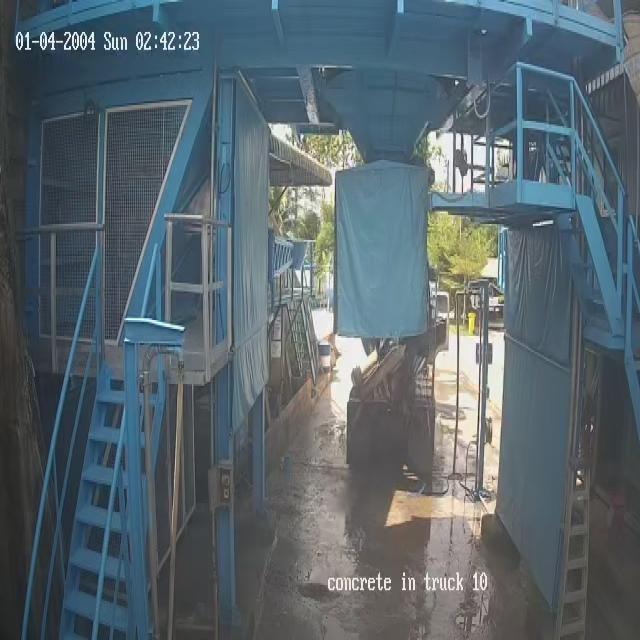cement_mixer_truck: (346, 270, 446, 473)
